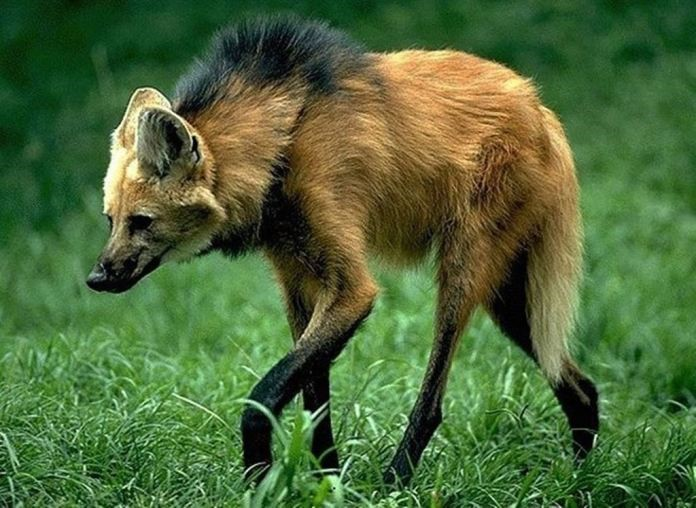LoboGuara: (80, 5, 625, 486)
